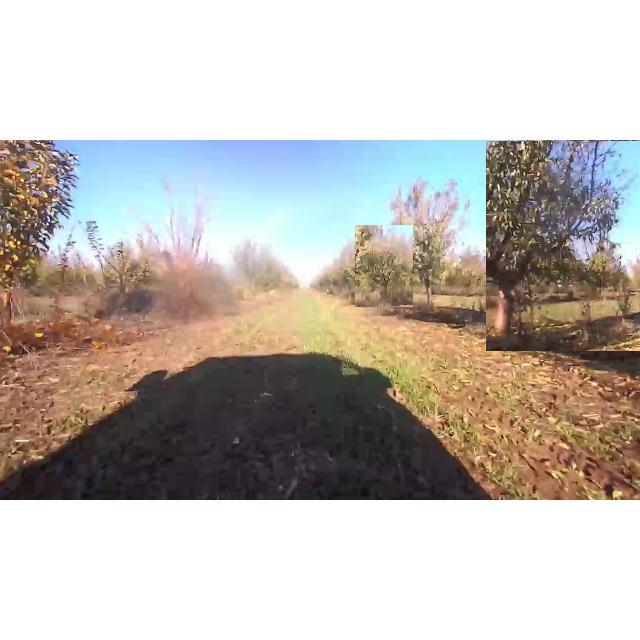tree: (486, 141, 640, 351), (0, 140, 80, 356), (388, 167, 474, 316), (355, 225, 413, 307)
